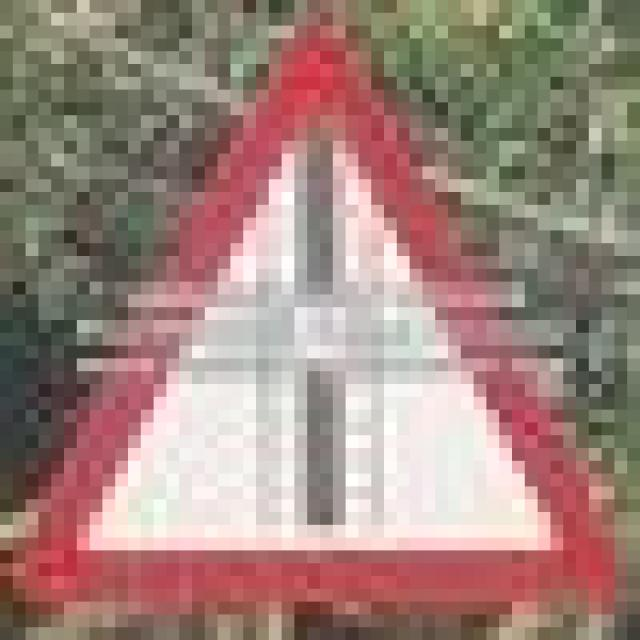GAP_IN_MEDIAN: (0, 0, 627, 602)
